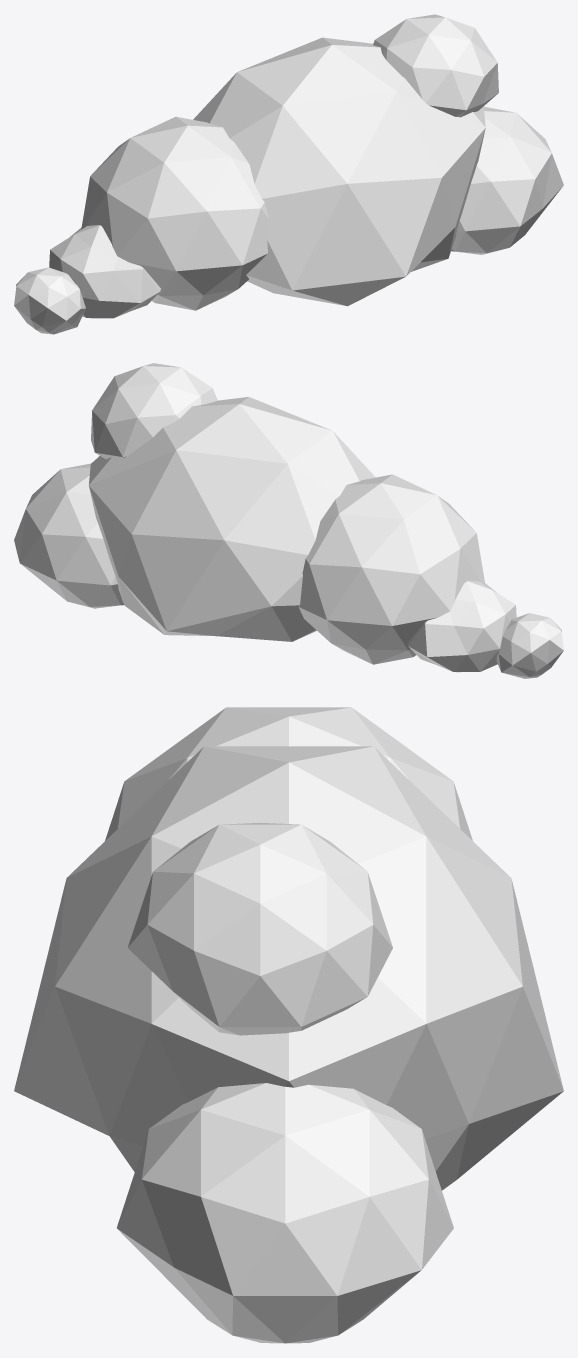
Rendered from cloud1.glb.
3 views of the same model, one above another, from view 1: azimuth 30°, elevation 25°; view 2: azimuth 150°, elevation 25°; view 3: azimuth 270°, elevation 25° (orthographic). The views are drawn at different scales.
Parts seen in each view (by area): view 1: Icosphere.007, Icosphere, Icosphere.011, Icosphere.010, Icosphere.009, Icosphere.008; view 2: Icosphere.007, Icosphere, Icosphere.011, Icosphere.010, Icosphere.009, Icosphere.008; view 3: Icosphere.007, Icosphere.011, Icosphere.010, Icosphere.
Boxes of the visible parts, x1=… form: Icosphere.007: x1=193, y1=37, x2=485, y2=306; Icosphere: x1=81, y1=116, x2=268, y2=310; Icosphere.011: x1=451, y1=106, x2=563, y2=254; Icosphere.010: x1=373, y1=14, x2=498, y2=117; Icosphere.009: x1=49, y1=225, x2=160, y2=318; Icosphere.008: x1=14, y1=267, x2=85, y2=334; Icosphere.007: x1=88, y1=397, x2=375, y2=641; Icosphere: x1=298, y1=474, x2=485, y2=664; Icosphere.011: x1=14, y1=463, x2=123, y2=608; Icosphere.010: x1=91, y1=363, x2=217, y2=458; Icosphere.009: x1=407, y1=580, x2=516, y2=672; Icosphere.008: x1=496, y1=613, x2=563, y2=678; Icosphere.007: x1=14, y1=746, x2=563, y2=1190; Icosphere.011: x1=117, y1=1083, x2=453, y2=1343; Icosphere.010: x1=127, y1=822, x2=392, y2=1035; Icosphere: x1=105, y1=707, x2=472, y2=840.
Bounding box in the file's own units: 1.52 × 0.6521 × 0.722.
Materials: 1 (1 with a texture image).
